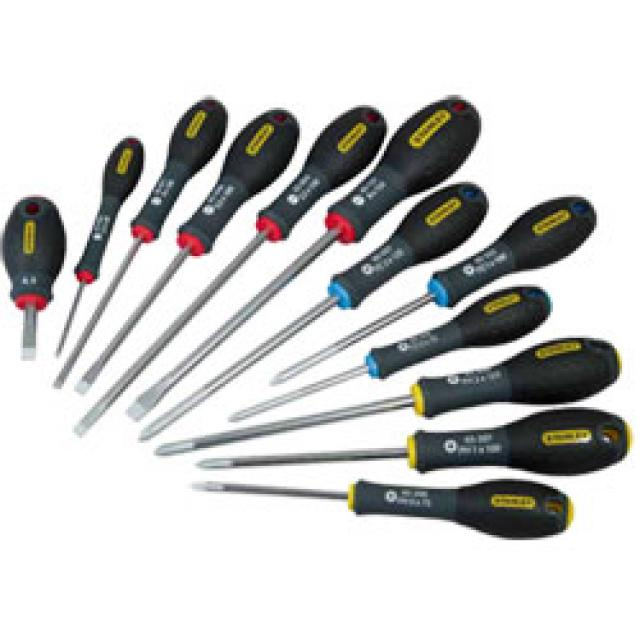Screwdriver: (120, 87, 488, 428), (69, 96, 391, 443), (128, 178, 510, 442), (267, 190, 611, 395), (72, 100, 307, 398), (169, 322, 620, 466), (208, 272, 562, 432), (56, 91, 230, 394), (194, 406, 632, 481), (185, 468, 590, 542), (36, 132, 152, 372), (0, 187, 73, 367)
